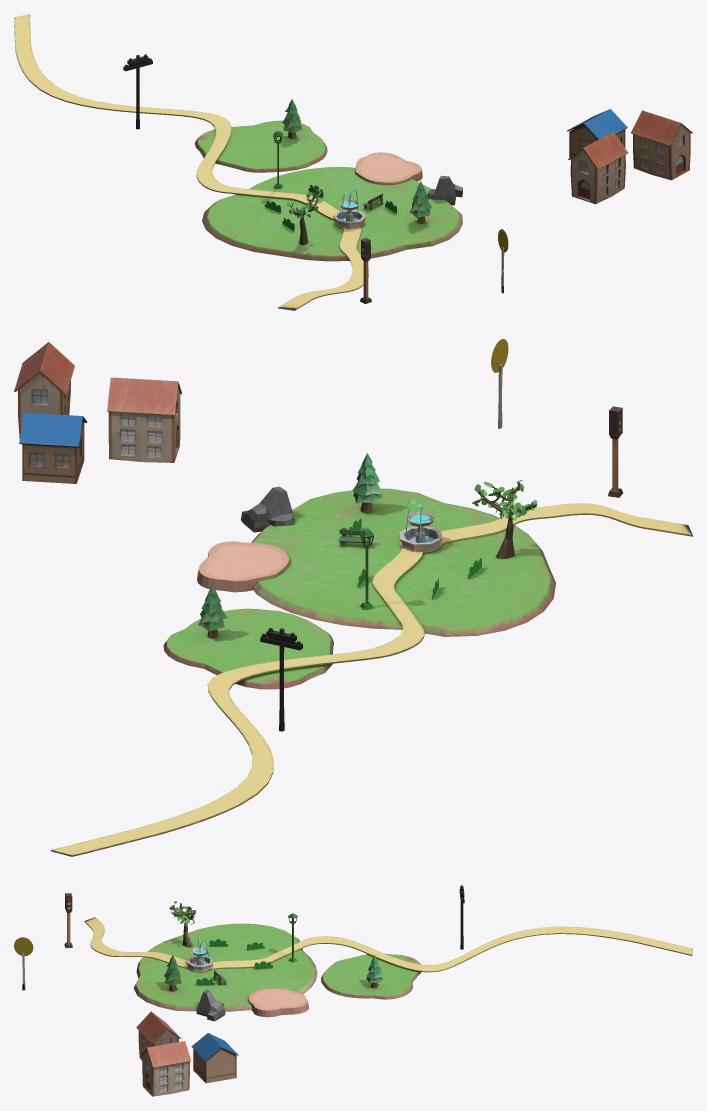
Rendered from garden.glb.
3 views of the same model, one above another, from view 1: azimuth 30°, elevation 25°; view 2: azimuth 150°, elevation 25°; view 3: azimuth 270°, elevation 25° (orthographic). The views are drawn at different scales.
Parts seen in each view (by area): view 1: GARDEN-SIDE.001; view 2: GARDEN-SIDE.001; view 3: GARDEN-SIDE.001.
Part boxes in pixels (x1,y1,x2,y2): GARDEN-SIDE.001: (14, 14, 692, 310); GARDEN-SIDE.001: (14, 339, 692, 856); GARDEN-SIDE.001: (14, 885, 692, 1096).
Bounding box in the file's own units: 19.32 × 3.04 × 30.14.
2 materials, 1 textured.
